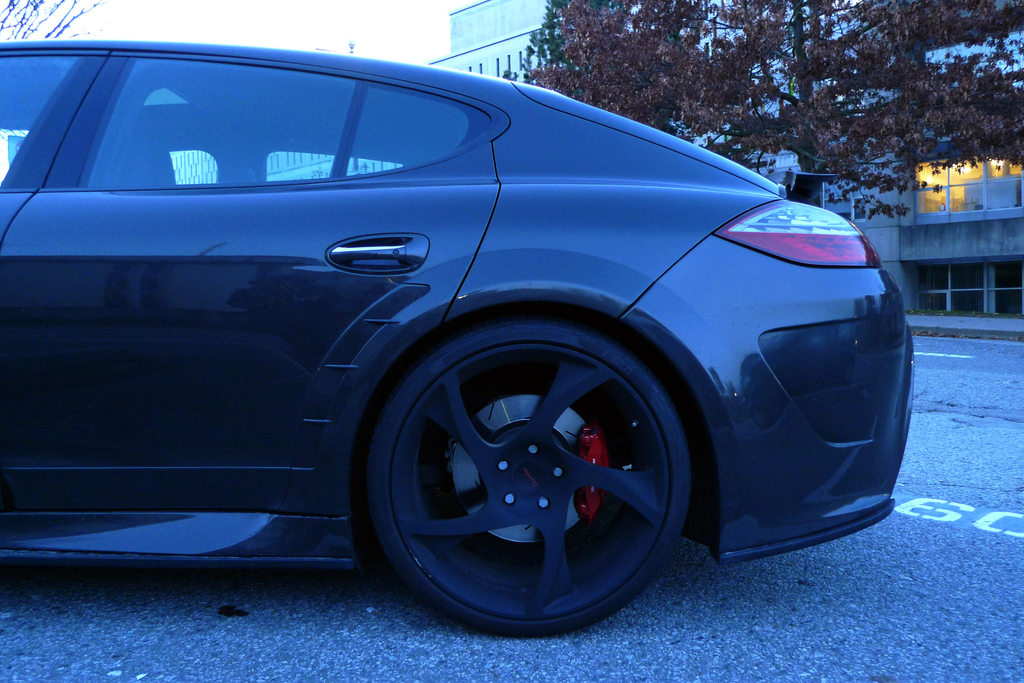Tree: (502, 0, 1024, 220)
